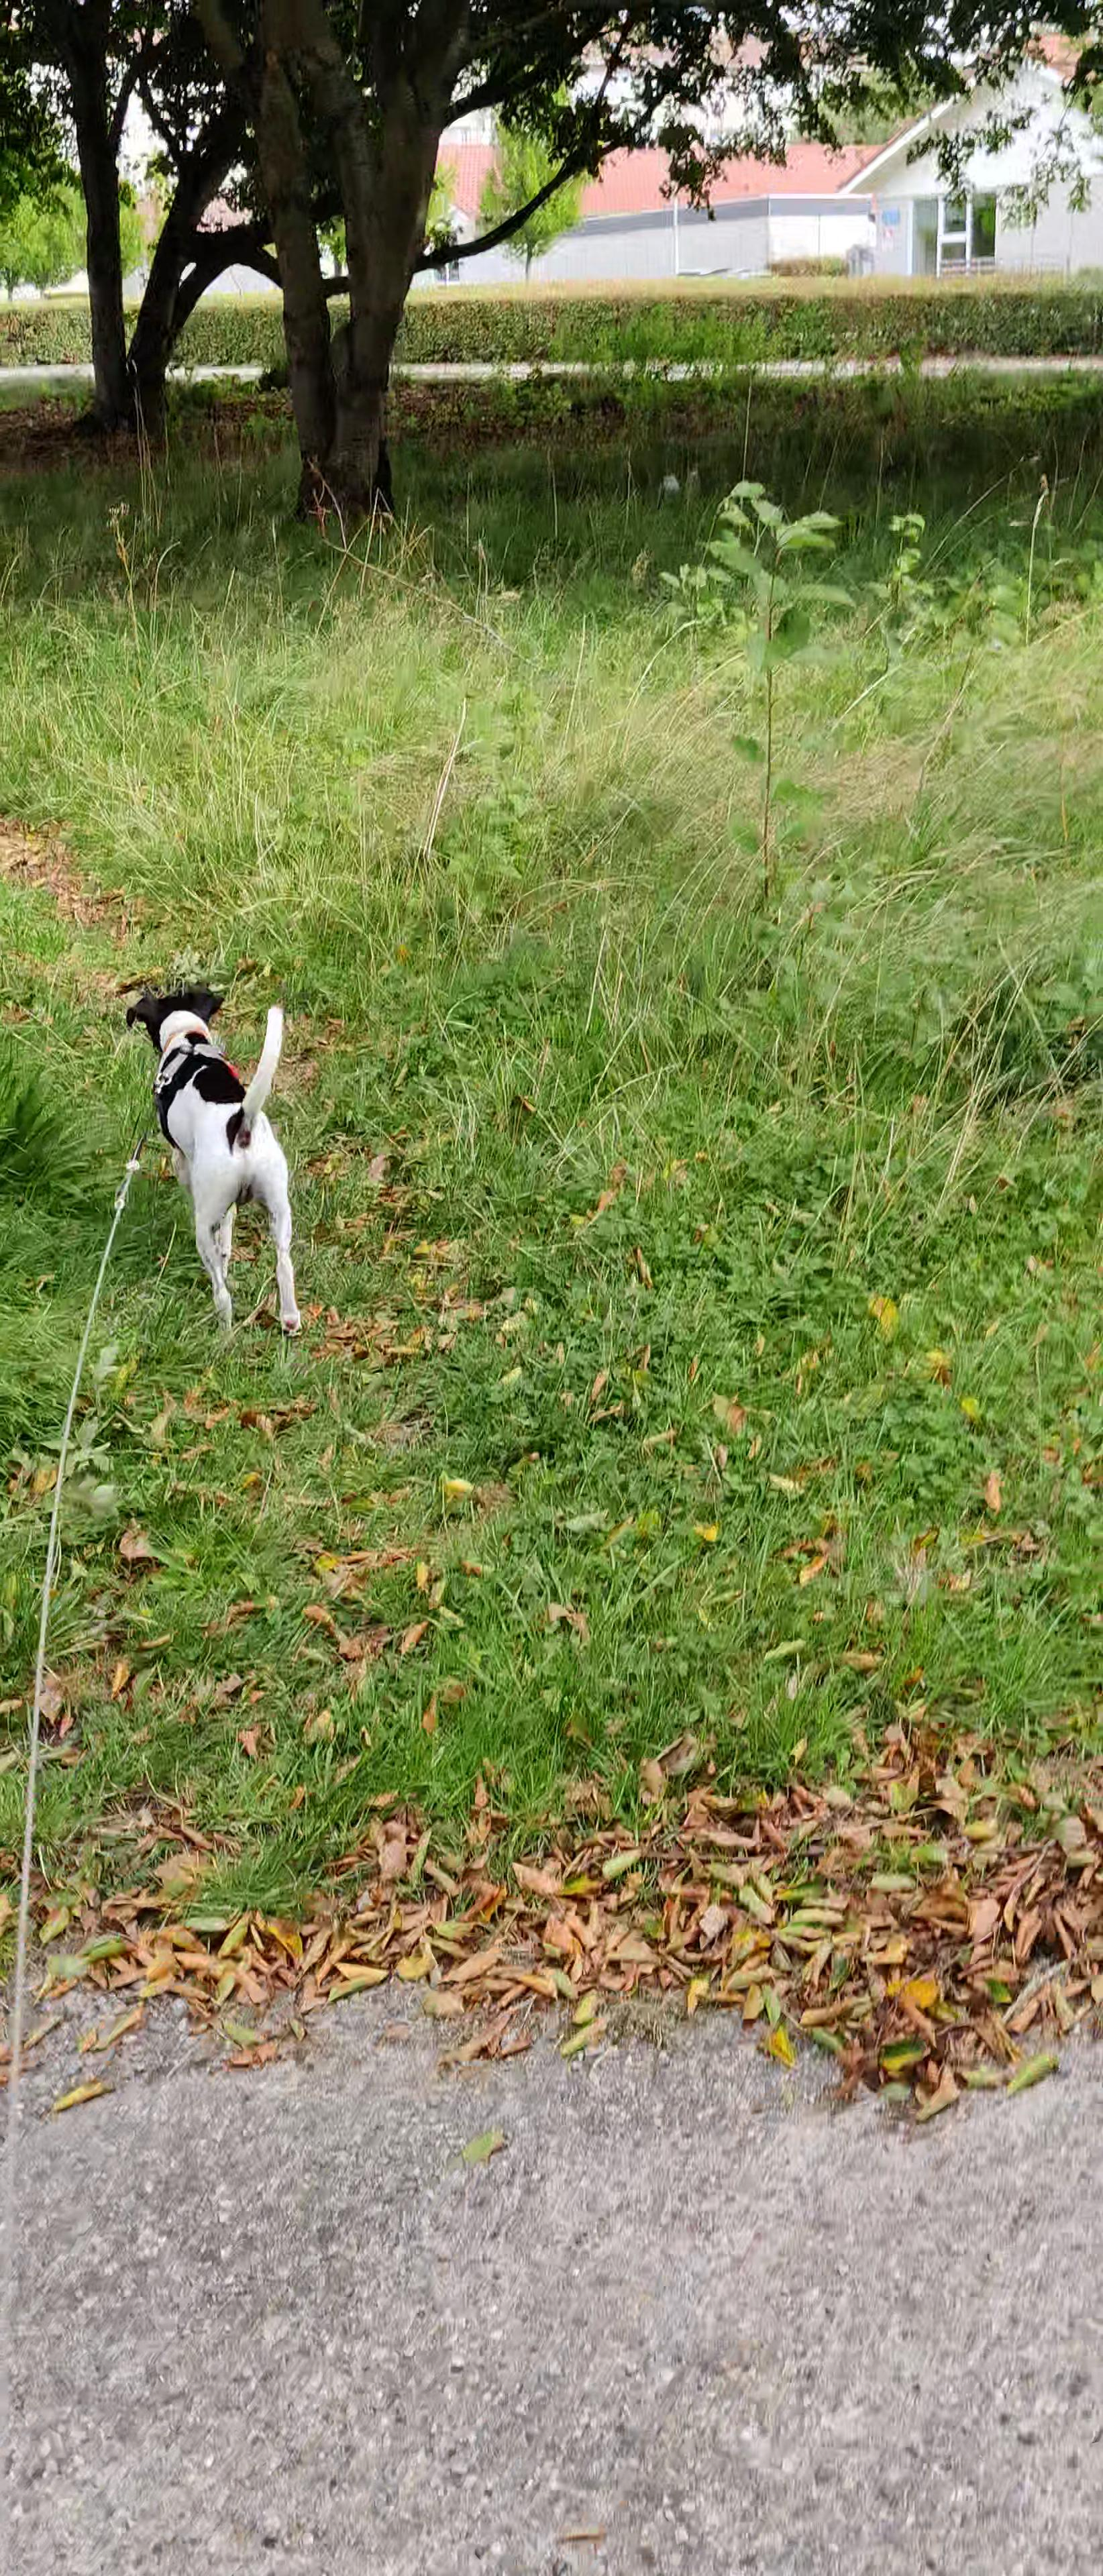Dog: (122, 982, 302, 1350)
